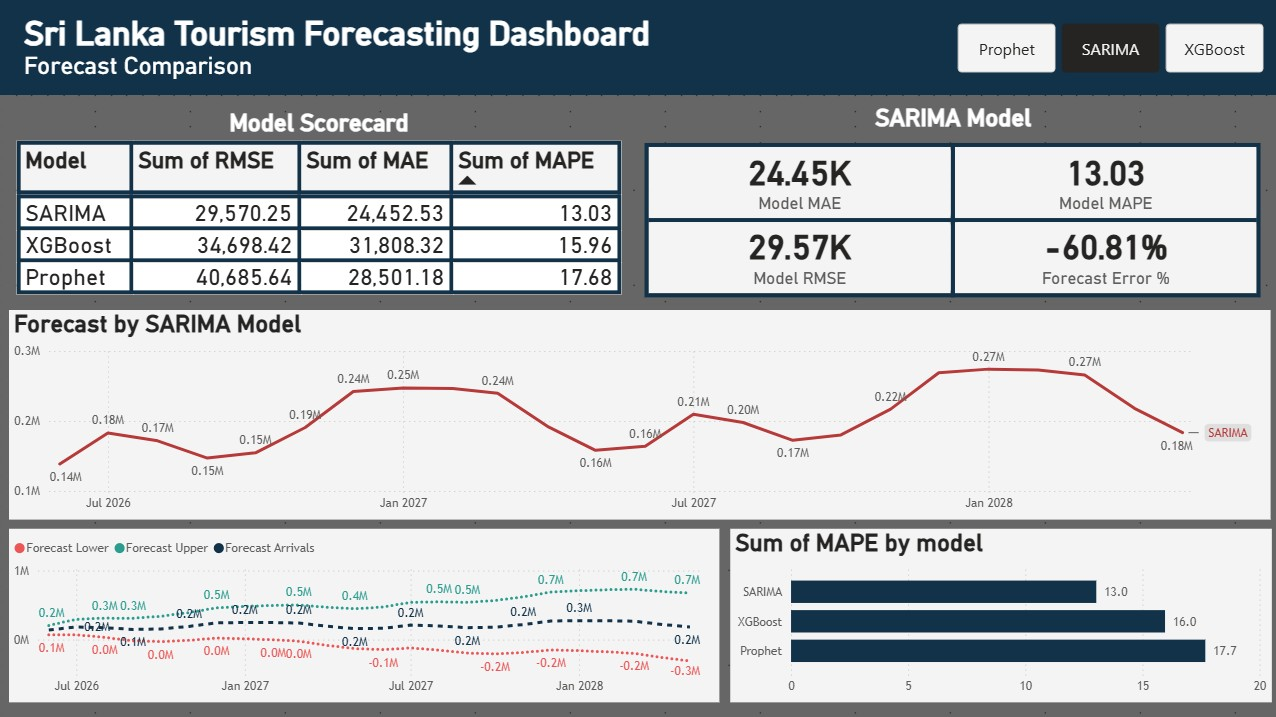

The page's visual inventory and layout, read from the dashboard file:
{"tool":"powerbi","page":{"name":"Forecast Comparison","canvas":[1280,720],"ordinal":1},"visuals":[{"type":"shape","box":[0,0,1280,95],"z":0},{"type":"textbox","box":[20,8.8,667.5,77.5],"z":1000},{"type":"cardVisual","fields":{"Data":["MeasuresTable.Model MAE","MeasuresTable.Model MAPE","MeasuresTable.Model RMSE","MeasuresTable.Forecast Error %"]},"box":[628.9,103.4,651.1,210.5],"z":2000},{"type":"advancedSlicerVisual","title":"Model","fields":{"Values":["DimModel.model"]},"box":[953.8,18.5,317.5,59.1],"z":3000},{"type":"tableEx","title":"Model Scorecard","fields":{"Values":["FactModelMetrics.Model","Sum(FactModelMetrics.RMSE)","Sum(FactModelMetrics.MAE)","Sum(FactModelMetrics.MAPE)"]},"box":[10.7,109,617.5,209.8],"z":4000},{"type":"lineChart","fields":{"Category":["DimDate.Date"],"Y":["MeasuresTable.Forecast Arrivals"],"Series":["DimModel.model"]},"box":[9.8,310.2,1261.5,209.2],"z":5000},{"type":"lineChart","fields":{"Category":["DimDate.Date"],"Y":["MeasuresTable.Forecast Lower","MeasuresTable.Forecast Upper","MeasuresTable.Forecast Arrivals"]},"box":[9.8,529.2,710.2,173.5],"z":6000},{"type":"barChart","fields":{"Category":["DimModel.model"],"Y":["Sum(FactModelMetrics.MAPE)"]},"box":[731.1,529.2,541.5,173.5],"z":7000}]}

Visuals, with their boxes in screenshot pixels (x1, y1, x2, y2), scaled from the page's 1280x720 canvas onto the 1276x717 screenshot:
shape: box=[0, 0, 1275, 95]
textbox: box=[20, 9, 685, 86]
cardVisual - MeasuresTable.Model MAE x MeasuresTable.Model MAPE: box=[627, 103, 1275, 313]
"Model" advancedSlicerVisual: box=[951, 18, 1267, 77]
"Model Scorecard" tableEx: box=[11, 109, 626, 317]
lineChart - DimDate.Date x MeasuresTable.Forecast Arrivals: box=[10, 309, 1267, 517]
lineChart - DimDate.Date x MeasuresTable.Forecast Lower: box=[10, 527, 718, 700]
barChart - DimModel.model x Sum(FactModelMetrics.MAPE): box=[729, 527, 1269, 700]
